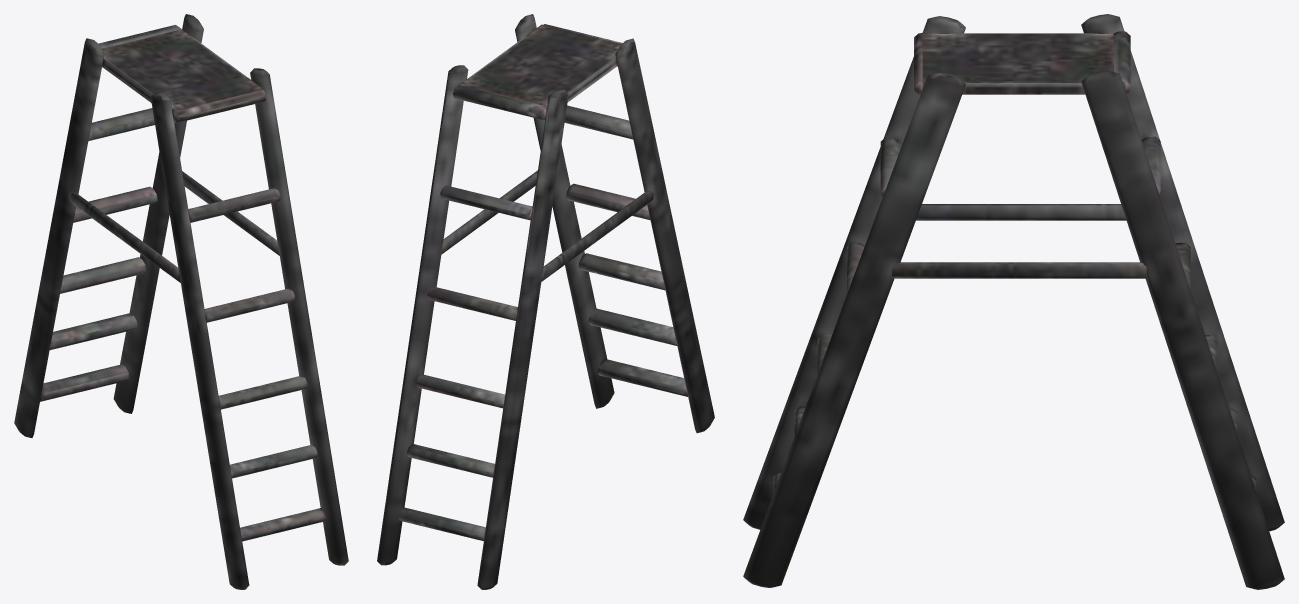
Rendered from ladder.fbx.
3 views of the same model, side by side, from view 1: azimuth 30°, elevation 25°; view 2: azimuth 150°, elevation 25°; view 3: azimuth 270°, elevation 25° (orthographic). The views are drawn at different scales.
Parts seen in each view (by area): view 1: ladder; view 2: ladder; view 3: ladder.
Boxes of the visible parts, x1,y1,x2,y2 form: ladder: [14, 14, 348, 589]; ladder: [377, 14, 714, 589]; ladder: [743, 14, 1284, 589].
Bounding box in the file's own units: 116 × 445 × 422.
